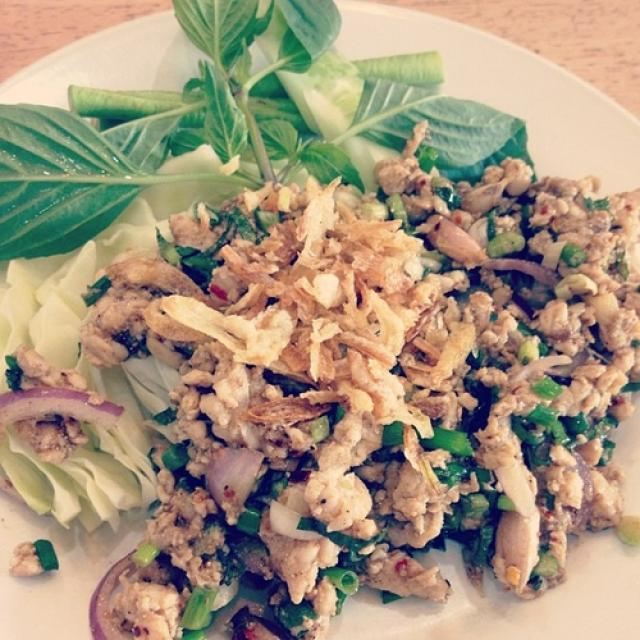鸡肉料理 含炸鸡: (18, 32, 621, 626)
